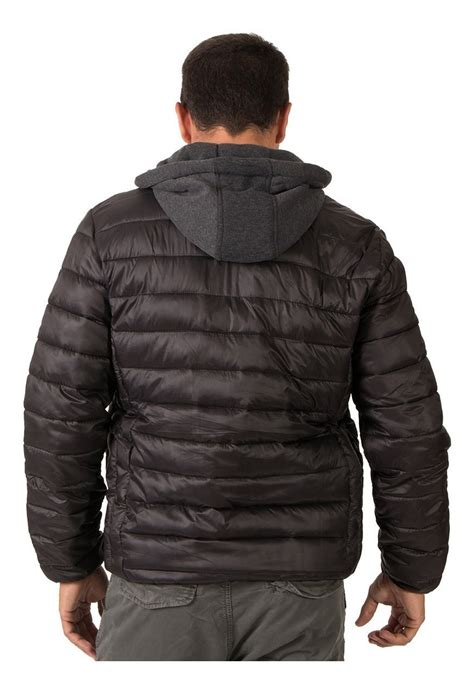nylon: (23, 187, 452, 592)
